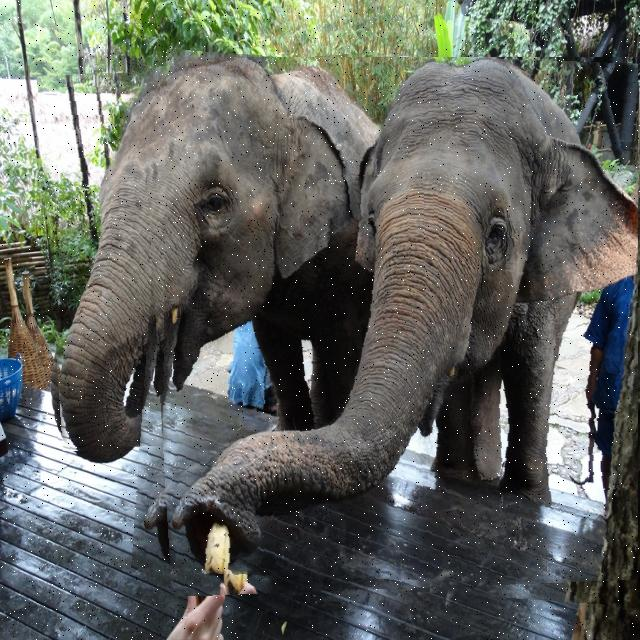elephant: (140, 57, 638, 597), (44, 59, 370, 446)
